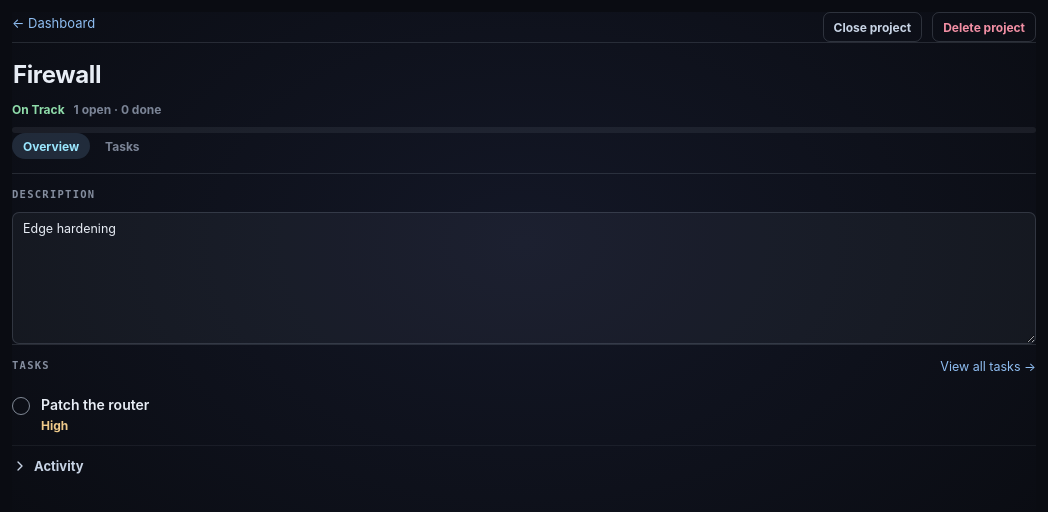
Test: ProjectDetailPage › mounts the activity feed for the project
The image size is (1048, 512).
Click the button "Activity": (48, 466) x1=12 y1=452 x2=84 y2=480
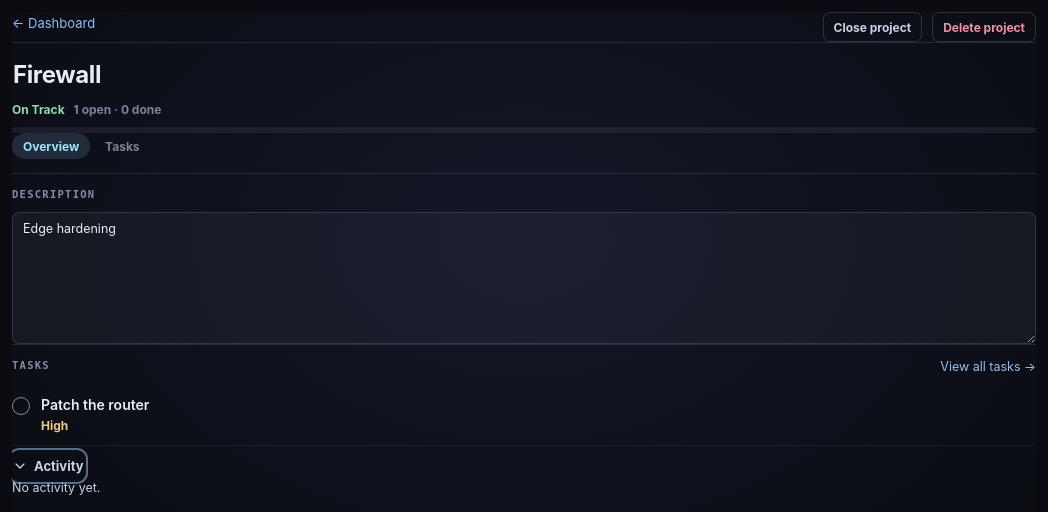
Expected: the text "No activity yet." is shown, x1=12 y1=480 x2=100 y2=495
